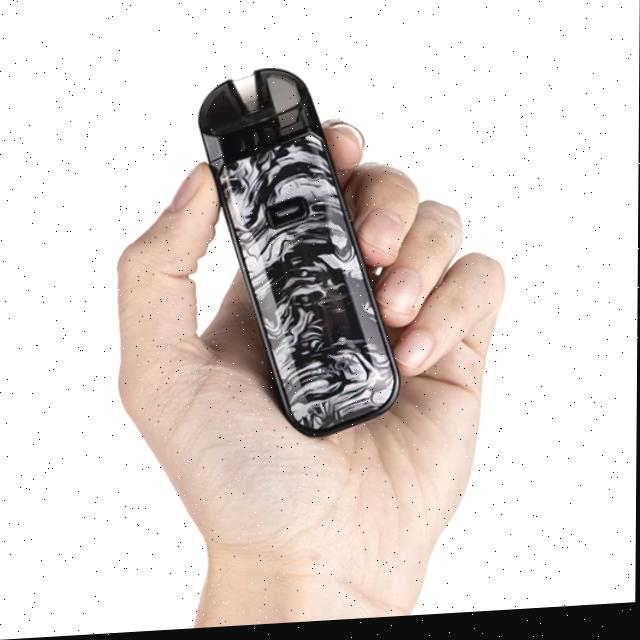vape: (193, 62, 402, 446)
